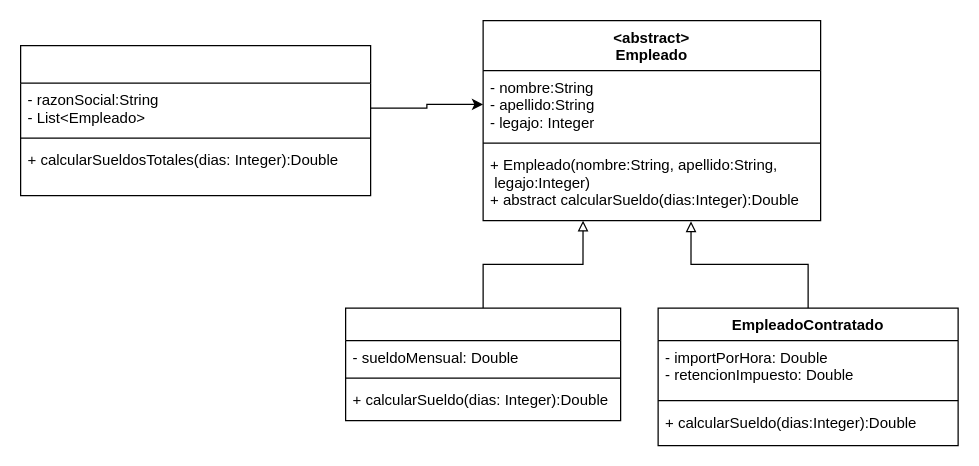
Image size: 979x466. Some labels were removed from this diagram. Here are the shapes that lost their labels. From the top down, the box of each, then its label:
(19, 44, 371, 196): Empresa
(344, 307, 621, 421): EmpleadoRelacionDependencia
